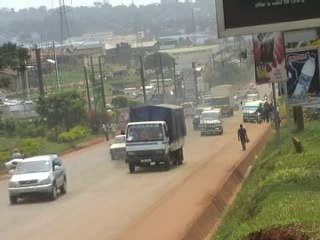Car: (8, 152, 68, 202)
Motorcycle: (4, 146, 24, 177)
